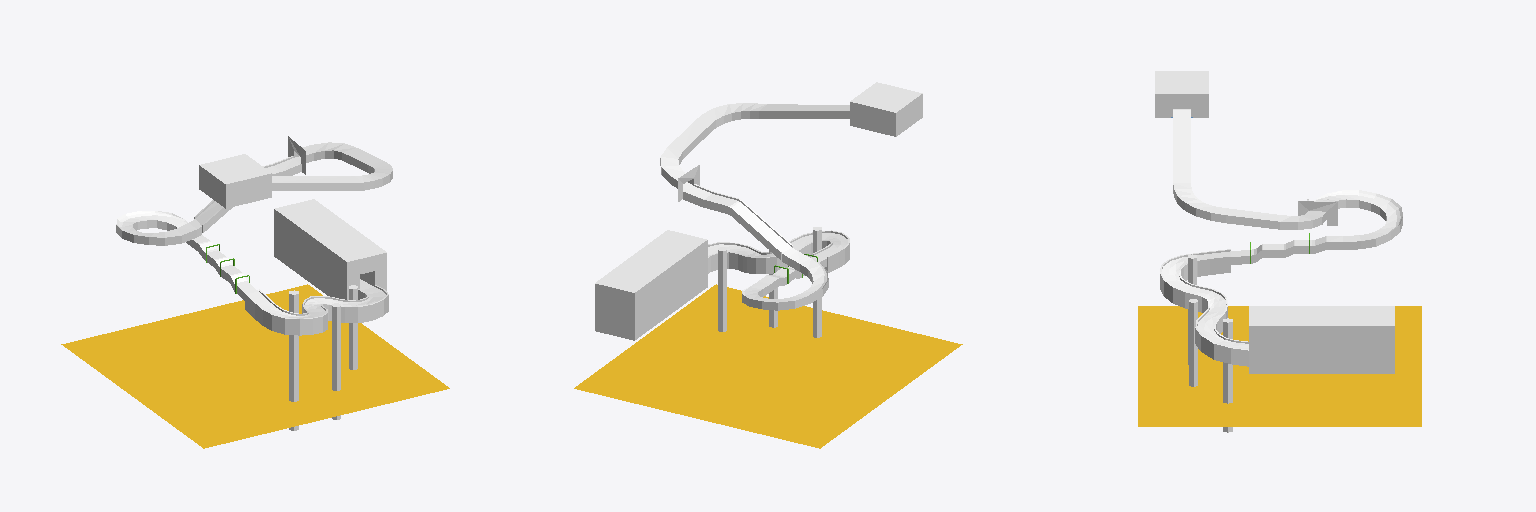
The model's file is Peach's Secret Slide Area 1.obj.
The picture shows the model from 3 angles: view 1: azimuth 30°, elevation 25°; view 2: azimuth 150°, elevation 25°; view 3: azimuth 270°, elevation 25°; orthographic projection.
Bounding box in the file's own units: 32766 × 35428 × 32766.